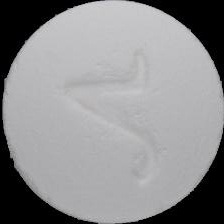63187-377: (0, 0, 224, 224)
